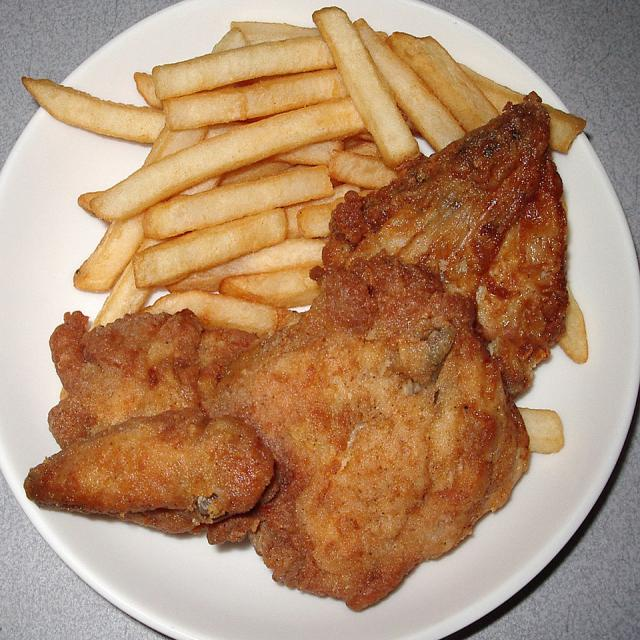papa: (16, 10, 340, 303)
pollo: (29, 305, 528, 613)
